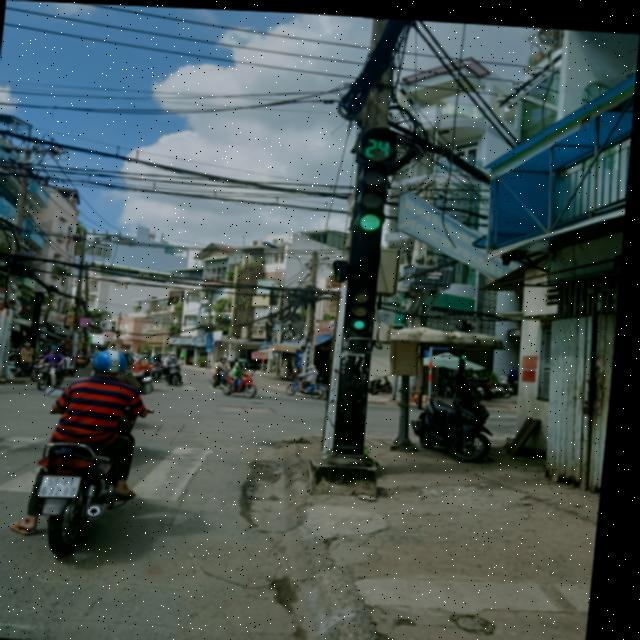Green: (351, 159, 399, 234), (344, 279, 381, 331)
